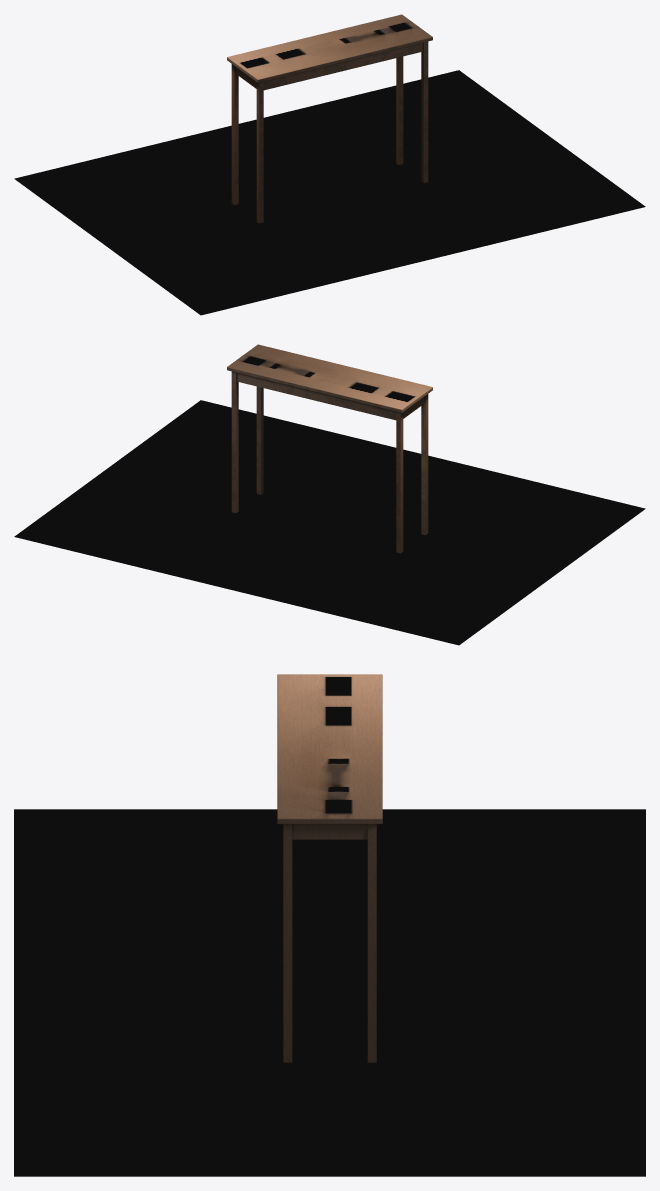
File: 813_pull.glb
3 renders of one model, top to bottom at view 1: azimuth 30°, elevation 25°; view 2: azimuth 150°, elevation 25°; view 3: azimuth 270°, elevation 25°, orthographic. The views are drawn at different scales.
Visible parts, largest first — view 1: Shadow, Table; view 2: Shadow, Table; view 3: Shadow, Table.
Boxes of the visible parts, left/top/right/bottom form: Shadow: left=14, top=70, right=645, bottom=315; Table: left=227, top=14, right=432, bottom=223; Shadow: left=14, top=400, right=645, bottom=645; Table: left=227, top=344, right=432, bottom=553; Shadow: left=14, top=809, right=645, bottom=1176; Table: left=277, top=674, right=382, bottom=1062.
Size of the model in its own units: 9.9 by 3.1 by 7.2.
Materials: 2 (2 with a texture image).
